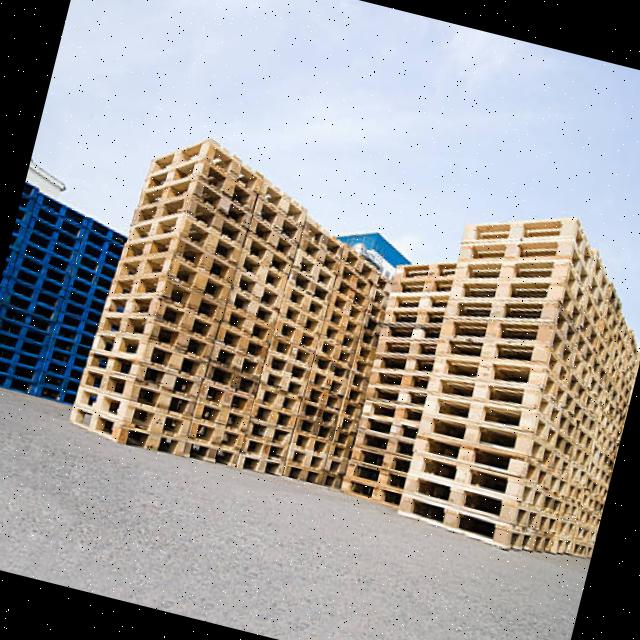Wooden-Pallets: (138, 136, 266, 197), (395, 490, 507, 556), (454, 209, 578, 246), (420, 393, 531, 431), (441, 295, 557, 325)
